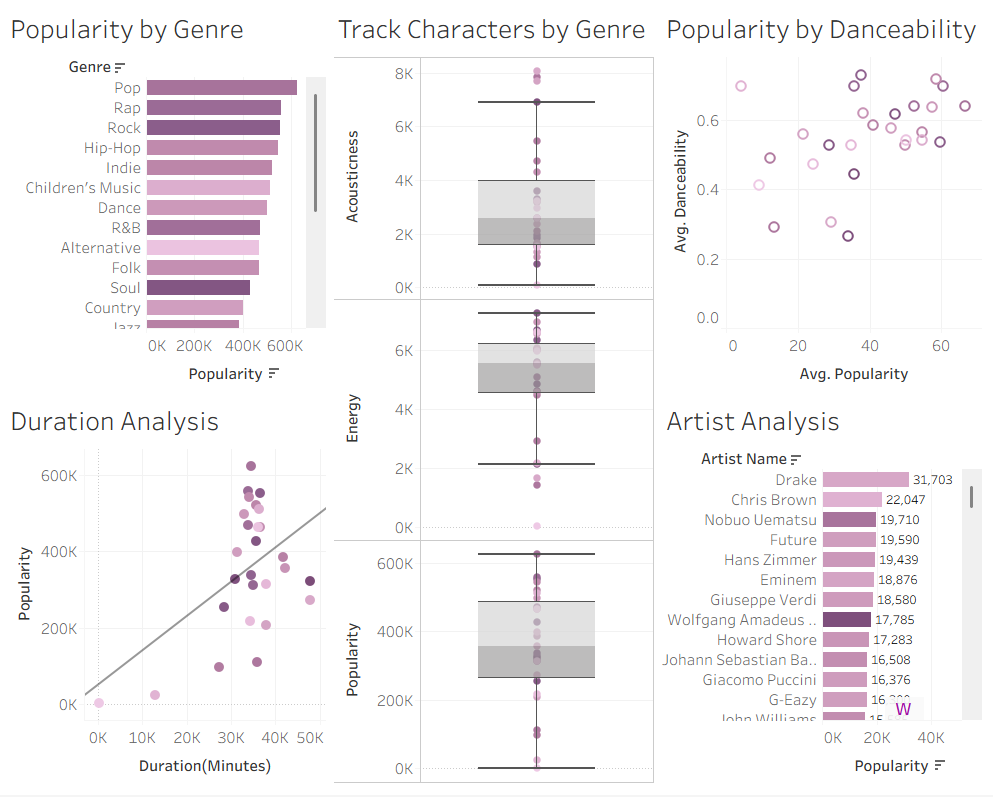

The page's visual inventory and layout, read from the dashboard file:
{"tool":"tableau","page":{"name":"Dashboard 1","canvas":[1000,800],"ordinal":0},"visuals":[{"type":"worksheet","title":"Popularity by Genre","mark":"Automatic","rows":["genre"],"cols":["popularity"],"box":[8,8,328,392]},{"type":"worksheet","title":"Track Characters by Genre","mark":"Circle","rows":["acousticness","energy","popularity"],"box":[336,8,328,784]},{"type":"worksheet","title":"Popularity by Danceability","mark":"Automatic","rows":["danceability"],"cols":["popularity"],"box":[664,8,328,392]},{"type":"worksheet","title":"Duration Analysis","mark":"Circle","rows":["popularity"],"cols":["Calculation_0445310895550465"],"box":[8,400,328,392]},{"type":"worksheet","title":"Artist Analysis","mark":"Automatic","rows":["artist_name"],"cols":["popularity"],"box":[664,400,328,392]}]}

Visuals, with their boxes in screenshot pixels (x1, y1, x2, y2), scaled from the page's 1000x800 canvas onto the 993x797 screenshot:
"Popularity by Genre" worksheet: detection(8, 8, 334, 398)
"Track Characters by Genre" worksheet (Circle marks): detection(334, 8, 659, 789)
"Popularity by Danceability" worksheet: detection(659, 8, 985, 398)
"Duration Analysis" worksheet (Circle marks): detection(8, 398, 334, 789)
"Artist Analysis" worksheet: detection(659, 398, 985, 789)
